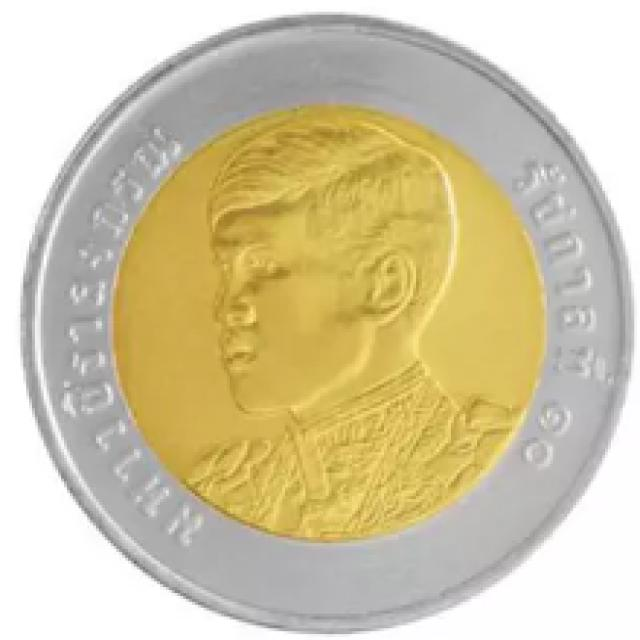10 Bath: (4, 3, 638, 638)
